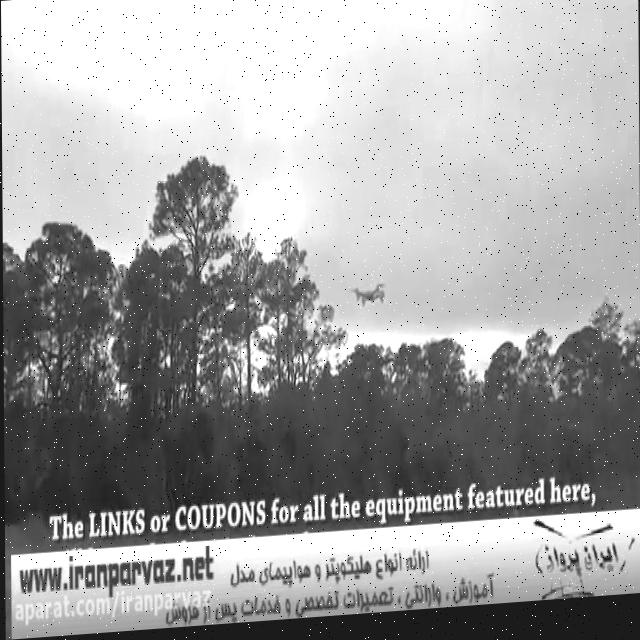drone: (346, 282, 386, 316)
